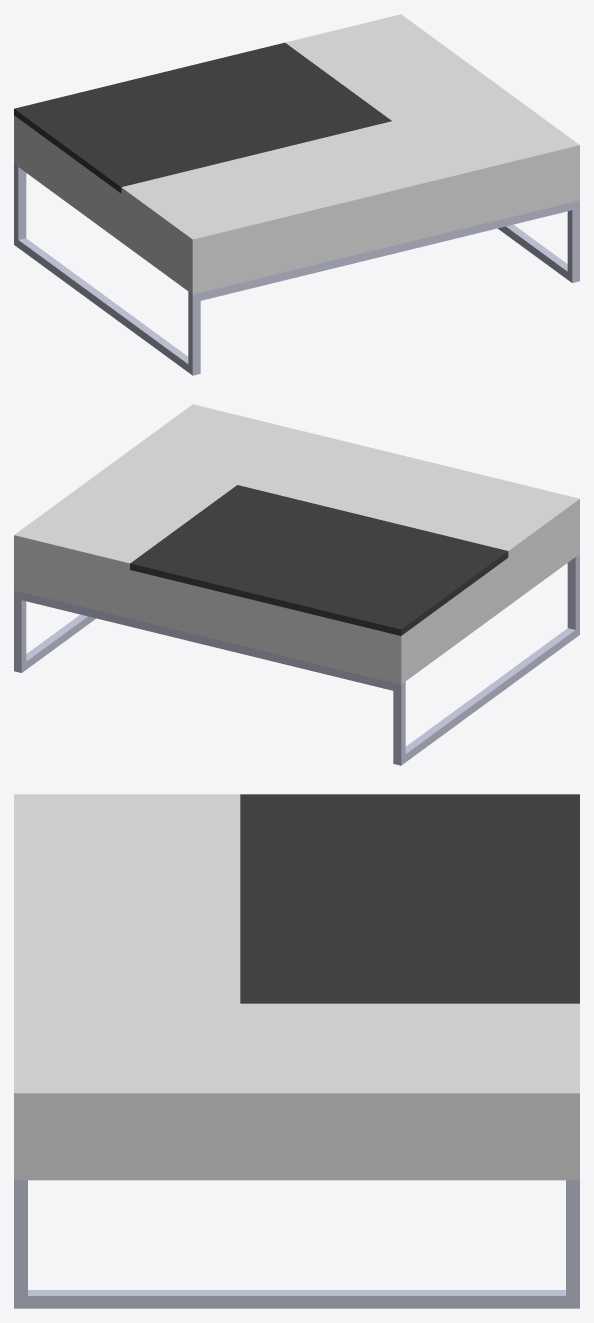
Rendered from coffeeTable.fbx.
3 renders of one model, top to bottom at view 1: azimuth 30°, elevation 25°; view 2: azimuth 150°, elevation 25°; view 3: azimuth 270°, elevation 25°, orthographic. The views are drawn at different scales.
Parts seen in each view (by area): view 1: coffeeTable, Cube.004, Cube.002, Cube.001; view 2: coffeeTable, Cube.004, Cube.001, Cube.002; view 3: Cube.004, coffeeTable, Cube.001, Cube.002.
Part boxes in pixels (x1,y1,x2,y2): coffeeTable: (14, 115, 579, 375); Cube.004: (14, 42, 391, 193); Cube.002: (121, 121, 463, 245); Cube.001: (285, 14, 579, 179); coffeeTable: (14, 505, 579, 765); Cube.004: (130, 485, 508, 635); Cube.001: (14, 404, 308, 569); Cube.002: (238, 432, 579, 557); Cube.004: (240, 794, 579, 1003); coffeeTable: (14, 1103, 579, 1308); Cube.001: (14, 1003, 579, 1103); Cube.002: (14, 794, 240, 1003).
Size of the model in its own units: 125 by 42 by 100.
